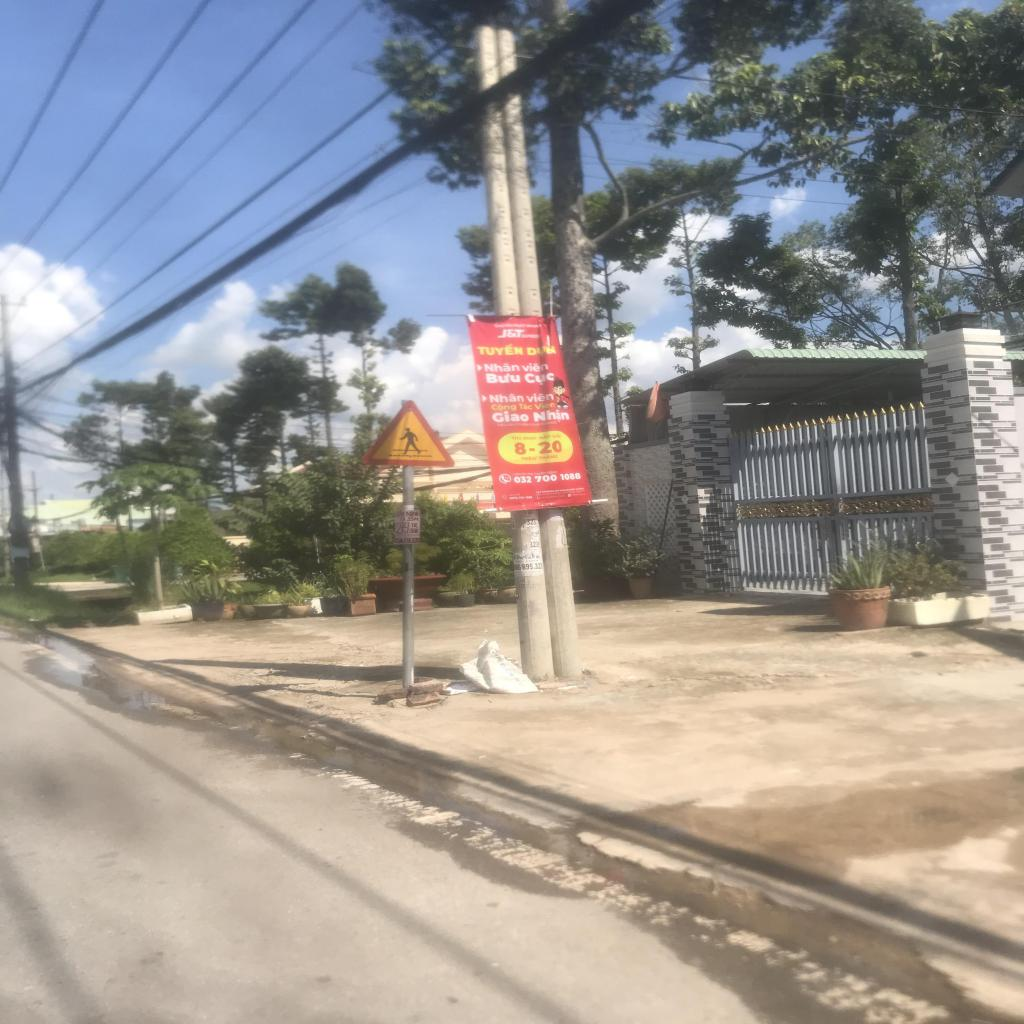chu_y_nguoi_di_bo_cat_ngang: (355, 399, 458, 468)
